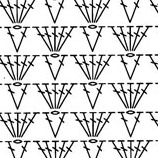enseble_chain: (46, 21, 83, 58), (122, 21, 158, 58), (124, 78, 158, 117), (10, 108, 46, 144), (46, 78, 82, 114), (86, 107, 121, 143), (11, 51, 45, 87), (86, 51, 120, 86), (105, 19, 136, 56), (106, 78, 136, 114), (30, 78, 59, 114), (114, 36, 136, 82), (122, 49, 150, 85), (68, 108, 97, 142), (68, 50, 96, 85), (121, 109, 151, 141), (8, 25, 37, 57), (83, 24, 112, 56), (46, 110, 75, 141), (113, 101, 136, 140), (8, 82, 36, 114), (43, 0, 74, 28), (115, 0, 145, 28), (47, 53, 74, 84), (83, 82, 110, 112), (0, 110, 22, 141), (0, 52, 21, 84), (130, 135, 158, 158), (78, 0, 98, 25), (12, 0, 30, 25)
fan: (10, 53, 27, 81), (57, 138, 80, 158), (86, 54, 101, 80), (44, 140, 56, 158)
